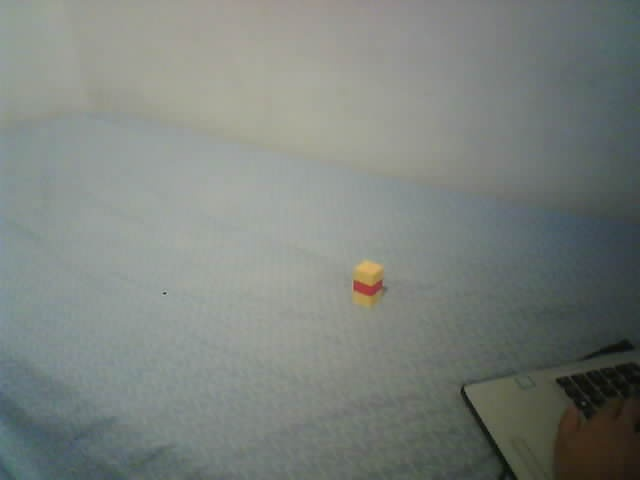lego: (351, 259, 384, 307)
